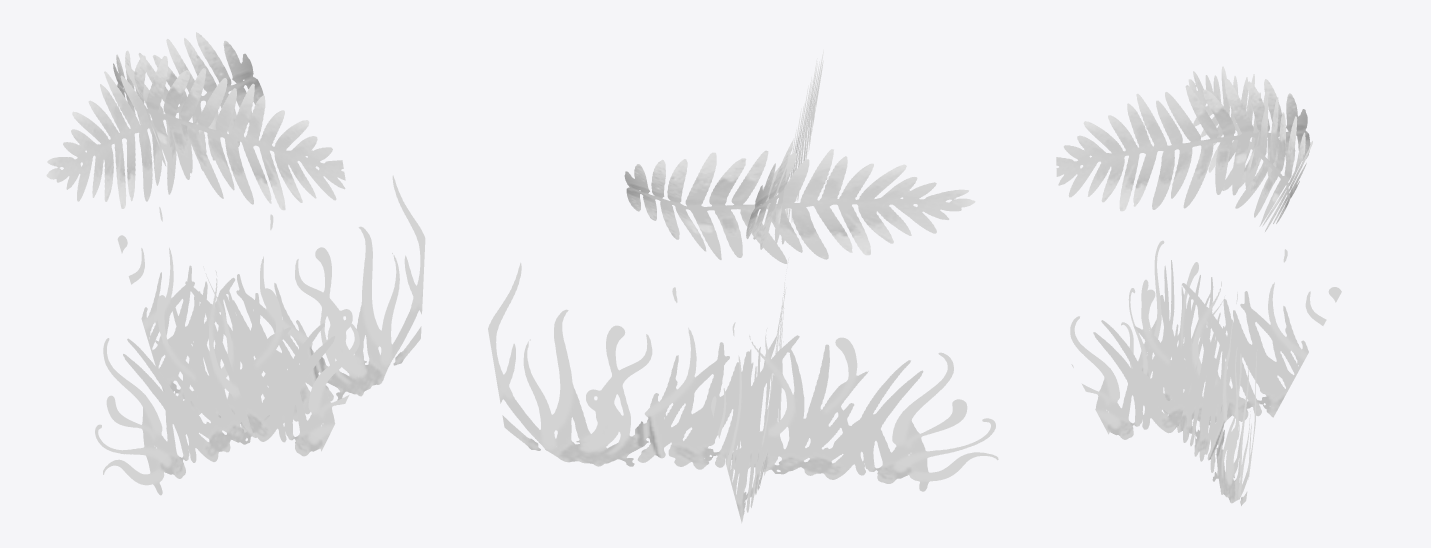
The model's file is GrassMeadows3.fbx.
3 renders of one model, left to right at view 1: azimuth 30°, elevation 25°; view 2: azimuth 150°, elevation 25°; view 3: azimuth 270°, elevation 25°, orthographic. The views are drawn at different scales.
Visible parts, largest first — view 1: GrassMeadows3; view 2: GrassMeadows3; view 3: GrassMeadows3.
Boxes of the visible parts, bbox=[...] form: GrassMeadows3: bbox=[46, 32, 425, 495]; GrassMeadows3: bbox=[488, 49, 998, 523]; GrassMeadows3: bbox=[1056, 66, 1341, 505].
Size of the model in its own units: 54.31 by 45 by 42.22.
